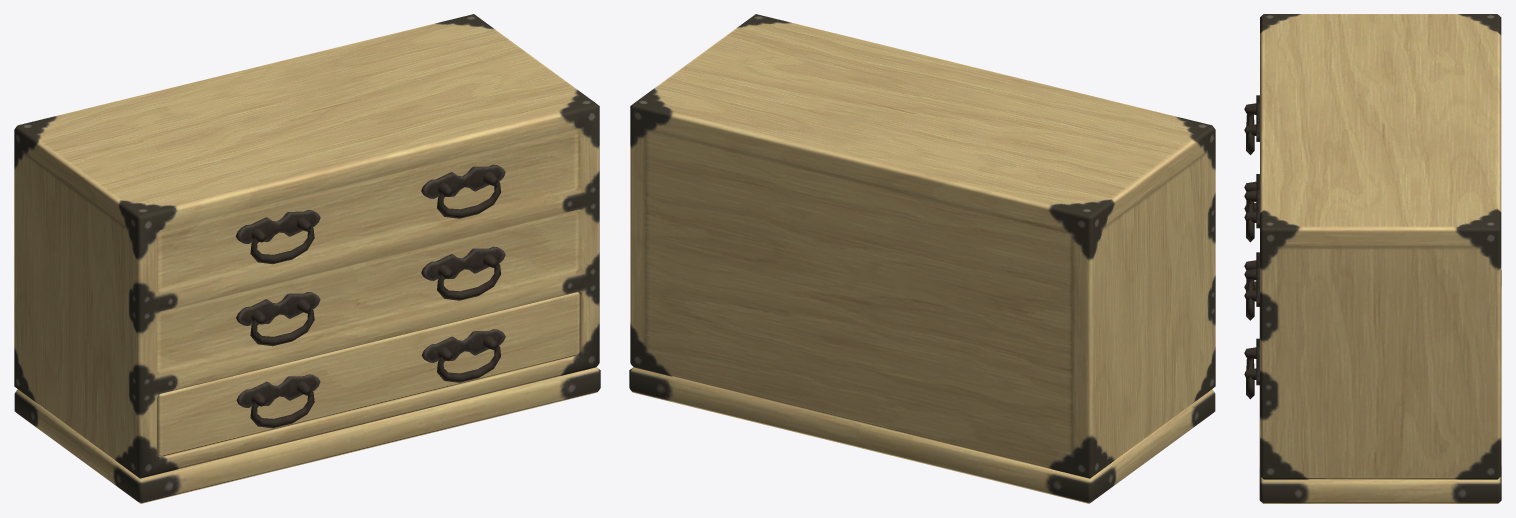
File: closet.glb
The picture shows the model from 3 angles, left to right: view 1: azimuth 30°, elevation 25°; view 2: azimuth 150°, elevation 25°; view 3: azimuth 270°, elevation 25°; orthographic projection. The views are drawn at different scales.
Visible parts, largest first — view 1: Scene; view 2: Scene; view 3: Scene.
Boxes of the visible parts, box(x1,y1,x2,y2) form: Scene: box(14, 14, 600, 503); Scene: box(629, 14, 1215, 503); Scene: box(1244, 14, 1501, 503).
Size of the model in its own units: 14.94 by 8.9 by 7.51.
Materials: 1 (1 with a texture image).
